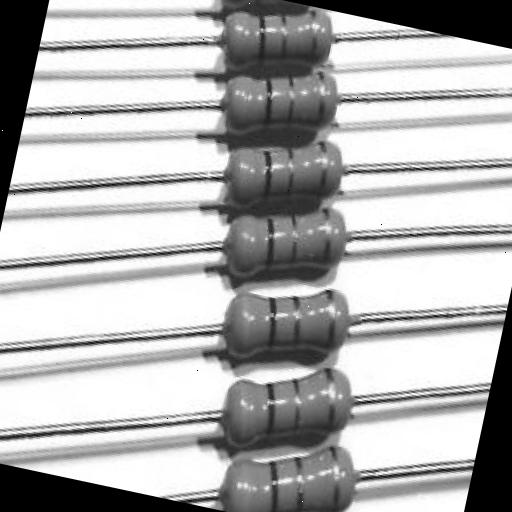RESISTOR: (200, 320, 375, 482), (200, 160, 372, 310), (189, 4, 353, 160), (203, 246, 362, 390), (198, 124, 387, 245), (220, 90, 374, 237), (198, 44, 358, 180), (227, 397, 393, 512)
